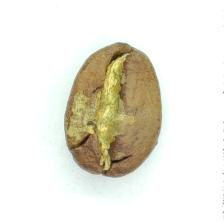NG: (67, 51, 138, 169)
